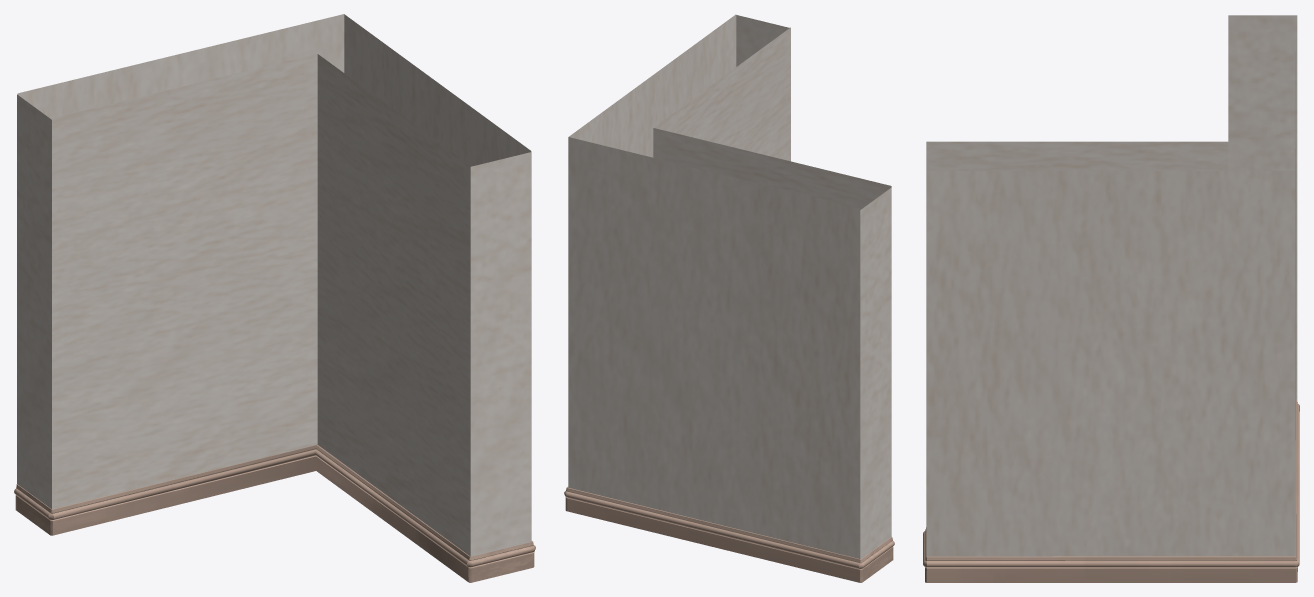
Rendered from Wall_Outer_Corner.fbx.
The picture shows the model from 3 angles, left to right: view 1: azimuth 30°, elevation 25°; view 2: azimuth 150°, elevation 25°; view 3: azimuth 270°, elevation 25°; orthographic projection. The views are drawn at different scales.
Parts seen in each view (by area): view 1: Wall_Outer_Corner, Wall_Outer_Corner_Right_Side, Wall_Outer_Corner_Back, Wall_Outer_Corner_Left_Side, Wall_Outer_Corner_Baseboard, Wall_Outer_Corner_Baseboard_Right_Side, Wall_Outer_Corner_Baseboard_Left_Side; view 2: Wall_Outer_Corner_Back, Wall_Outer_Corner, Wall_Outer_Corner_Left_Side, Wall_Outer_Corner_Back_Baseboard, Wall_Outer_Corner_Right_Side, Wall_Outer_Corner_Baseboard_Left_Side; view 3: Wall_Outer_Corner_Back, Wall_Outer_Corner_Left_Side, Wall_Outer_Corner_Back_Baseboard, Wall_Outer_Corner.
Part boxes in pixels (<box>): Wall_Outer_Corner: <box>52,53,470,556</box>; Wall_Outer_Corner_Right_Side: <box>470,152,531,556</box>; Wall_Outer_Corner_Back: <box>17,14,531,166</box>; Wall_Outer_Corner_Left_Side: <box>17,94,51,508</box>; Wall_Outer_Corner_Baseboard: <box>52,445,470,581</box>; Wall_Outer_Corner_Baseboard_Right_Side: <box>466,541,535,582</box>; Wall_Outer_Corner_Baseboard_Left_Side: <box>14,484,53,535</box>; Wall_Outer_Corner_Back: <box>568,14,860,558</box>; Wall_Outer_Corner: <box>653,27,891,209</box>; Wall_Outer_Corner_Left_Side: <box>860,187,891,559</box>; Wall_Outer_Corner_Back_Baseboard: <box>564,487,860,582</box>; Wall_Outer_Corner_Right_Side: <box>736,15,789,66</box>; Wall_Outer_Corner_Baseboard_Left_Side: <box>859,537,894,582</box>; Wall_Outer_Corner_Back: <box>926,52,1295,556</box>; Wall_Outer_Corner_Left_Side: <box>1228,15,1297,401</box>; Wall_Outer_Corner_Back_Baseboard: <box>926,399,1299,582</box>; Wall_Outer_Corner: <box>926,141,1228,170</box>.
Size of the model in its own units: 0.0252 by 0.03 by 0.025.
